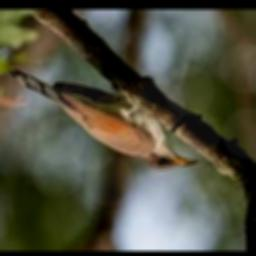Cuckoo: (11, 69, 200, 171)
